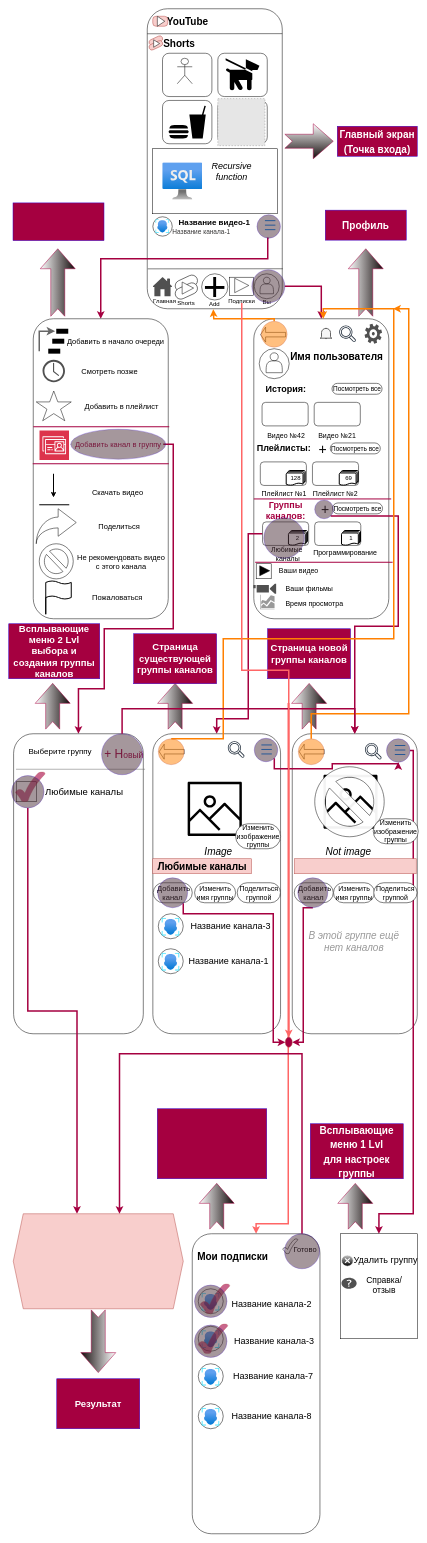
The diagram is 427 pixels wide and 1543 high, and some of its shapes have lost their labels. Grey dashed boxes stand in for pictures. The shapes that lost their labels are listed below. From the top down, each one's centre as x and y in pixels, then its label:
At (184,71): "Actor".
At (58,221): "Всплывающие меню 1 Lvl для видео".
At (355,866): "Название нового канала".
At (212,1143): "Выделяем интересующие нас каналы со страницы подписок".
At (98,1261): "Добавили все желаемые каналы в выбранную групп(у/ы) и вернулись на главный экран".
